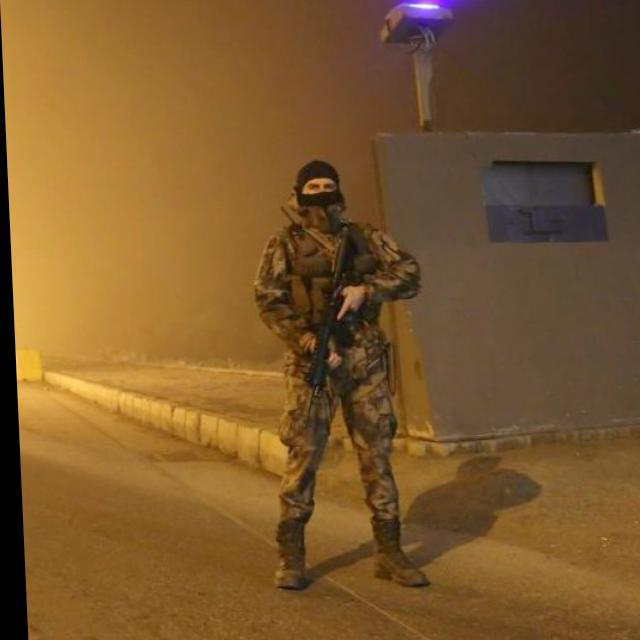poh_personel: (244, 159, 432, 593)
